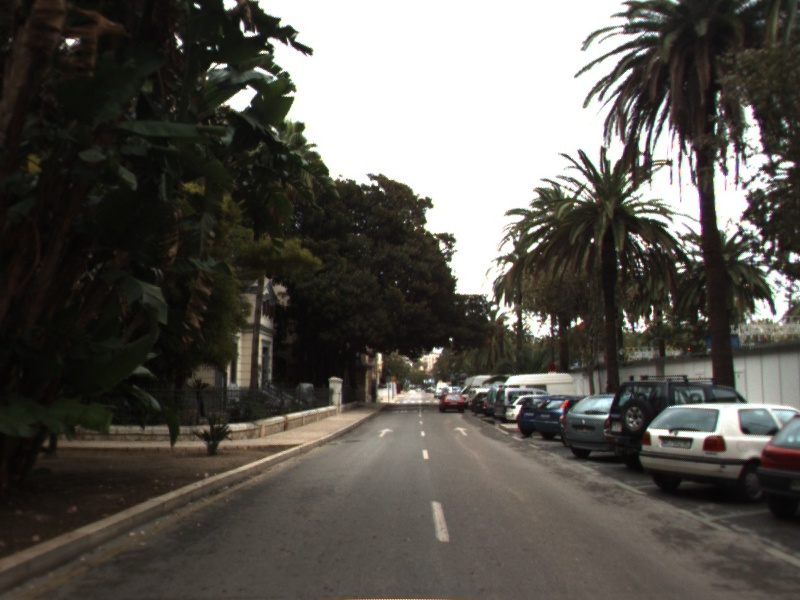STRAIGHT: (451, 424, 472, 438), (375, 426, 396, 439)
